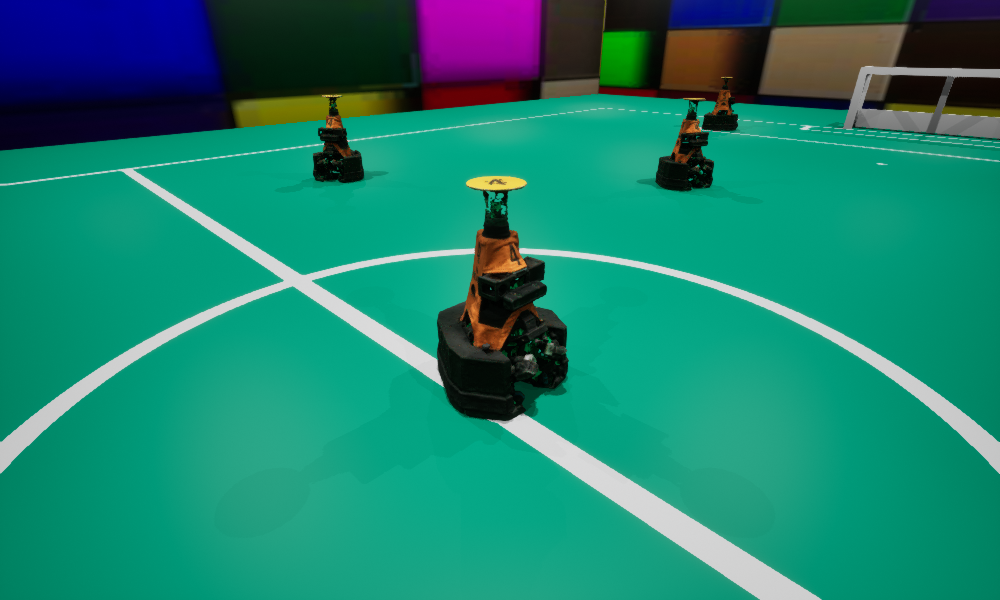0 orange robot TechUnited: (437, 176, 568, 420), (655, 98, 713, 190), (313, 95, 363, 181), (702, 77, 737, 130)
